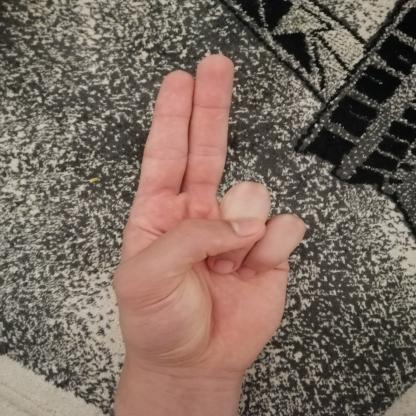TA: (88, 40, 315, 387)
